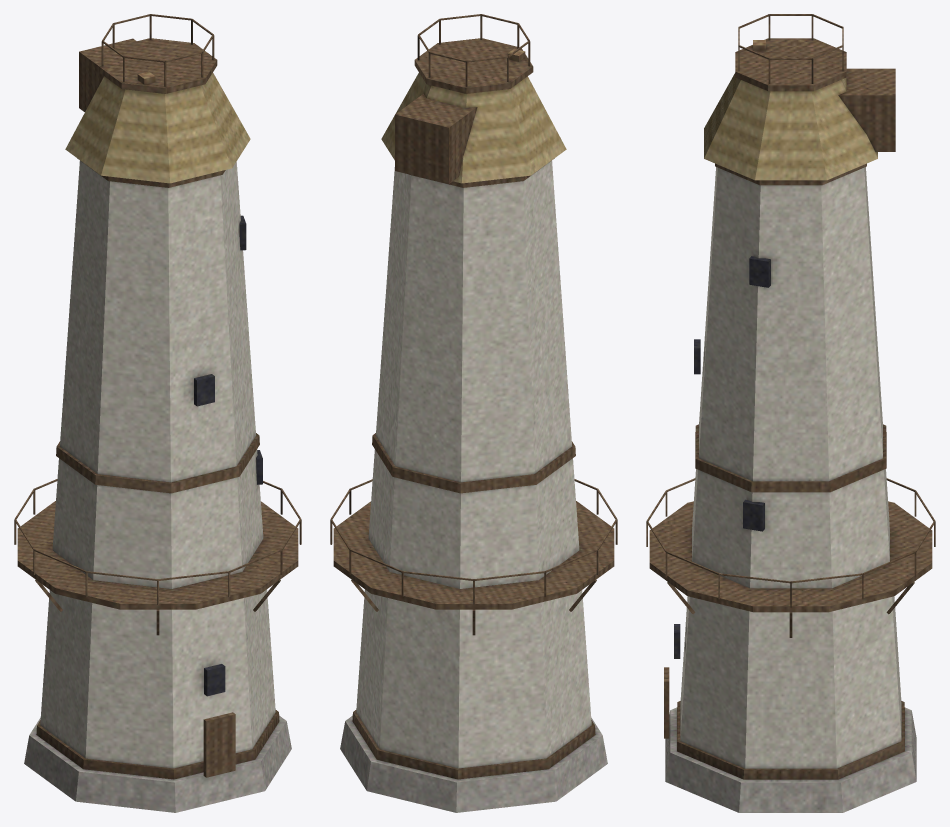
Rendered from SM_Windmill.fbx.
The picture shows the model from 3 angles, left to right: view 1: azimuth 30°, elevation 25°; view 2: azimuth 150°, elevation 25°; view 3: azimuth 270°, elevation 25°; orthographic projection.
Parts seen in each view (by area): view 1: SM_Windmill; view 2: SM_Windmill; view 3: SM_Windmill.
Boxes of the visible parts, x1,y1,x2,y2 form: SM_Windmill: (14,14,301,812); SM_Windmill: (330,14,617,812); SM_Windmill: (646,14,935,812).
Size of what is drawn, in the model's own units: 1105 by 3053 by 1105.
Materials: 1 (1 with a texture image).
